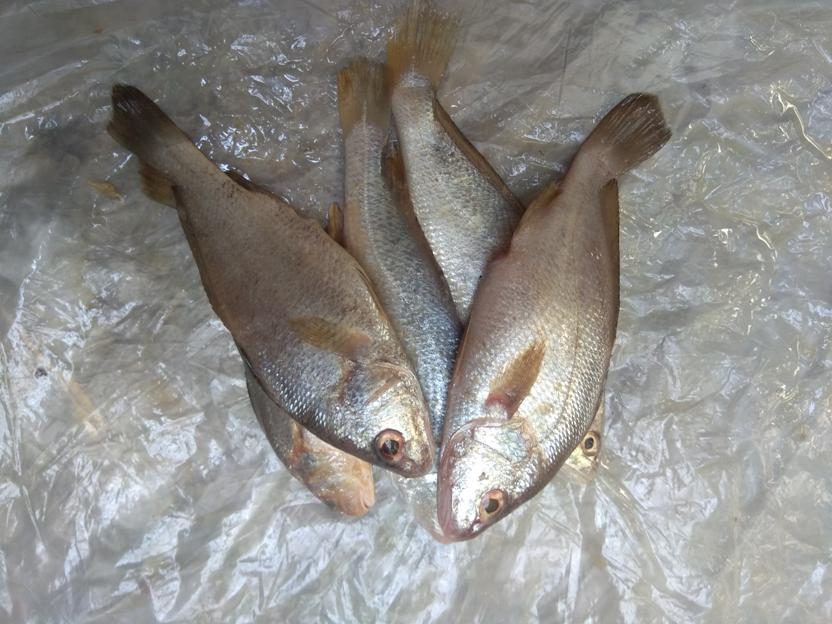Fish head: (439, 417, 545, 542), (334, 362, 432, 480), (296, 424, 374, 516), (564, 392, 608, 481)
Fish tail: (577, 91, 674, 184), (105, 81, 194, 175), (382, 1, 462, 90), (337, 53, 398, 139)
